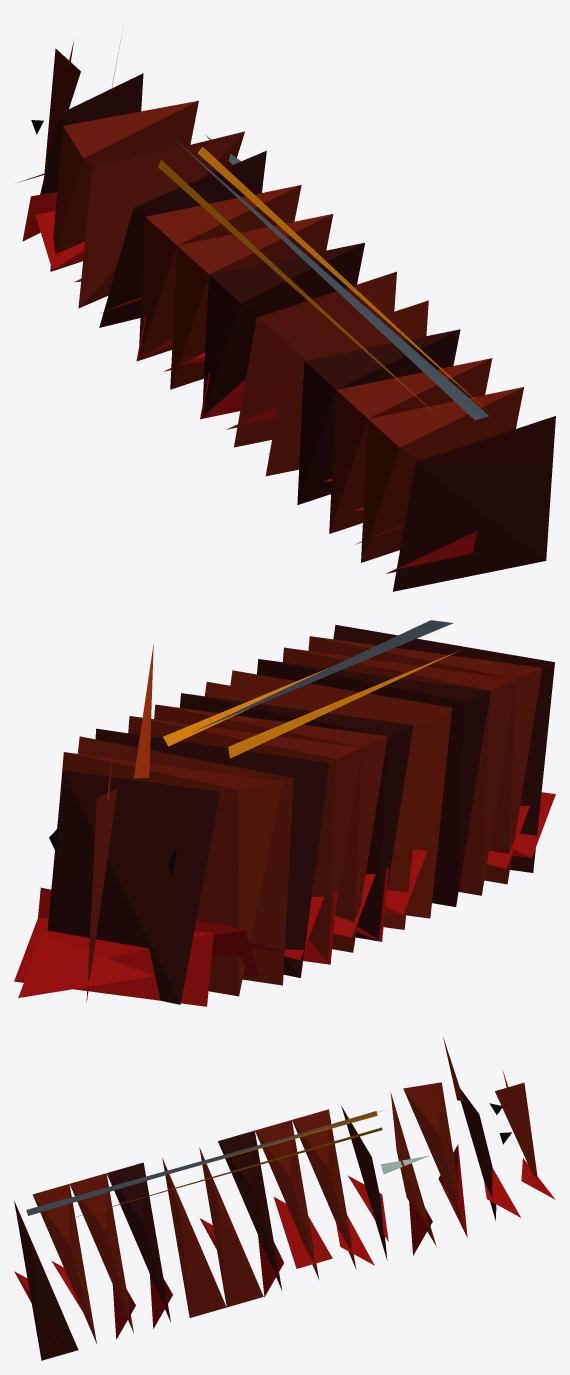
Rendered from tb_tanker_wreck.three-web-toon.lod25.glb.
3 views of the same model, one above another, from view 1: azimuth 30°, elevation 25°; view 2: azimuth 150°, elevation 25°; view 3: azimuth 270°, elevation 25° (orthographic). The views are drawn at different scales.
Visible parts, largest first — view 1: tanker_body_lod; view 2: tanker_body_lod; view 3: tanker_body_lod.
Boxes of the visible parts, x1,y1,x2,y2 form: tanker_body_lod: [17, 36, 555, 591]; tanker_body_lod: [14, 620, 555, 1006]; tanker_body_lod: [14, 1037, 555, 1360].
Size of the model in its own units: 22.47 by 35.94 by 64.26.
